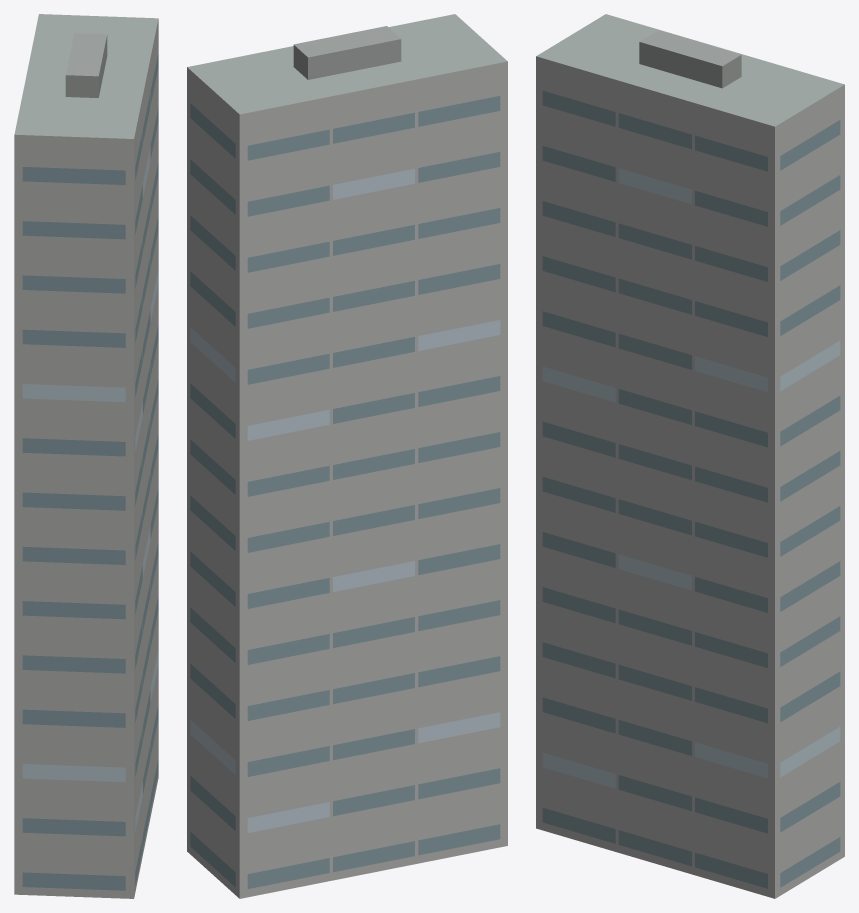
Rendered from fallback-trizium-preserved-2.glb.
The picture shows the model from 3 angles, left to right: view 1: azimuth 30°, elevation 25°; view 2: azimuth 150°, elevation 25°; view 3: azimuth 270°, elevation 25°; orthographic projection. The views are drawn at different scales.
Visible parts, largest first — view 1: fallback-trizium-preserved-2; view 2: fallback-trizium-preserved-2; view 3: fallback-trizium-preserved-2.
Part boxes in pixels (left/top/right/bottom): fallback-trizium-preserved-2: left=14, top=14, right=158, bottom=898; fallback-trizium-preserved-2: left=187, top=14, right=507, bottom=898; fallback-trizium-preserved-2: left=536, top=14, right=844, bottom=898.
Bounding box in the file's own units: 26.18 × 86 × 30.3.
